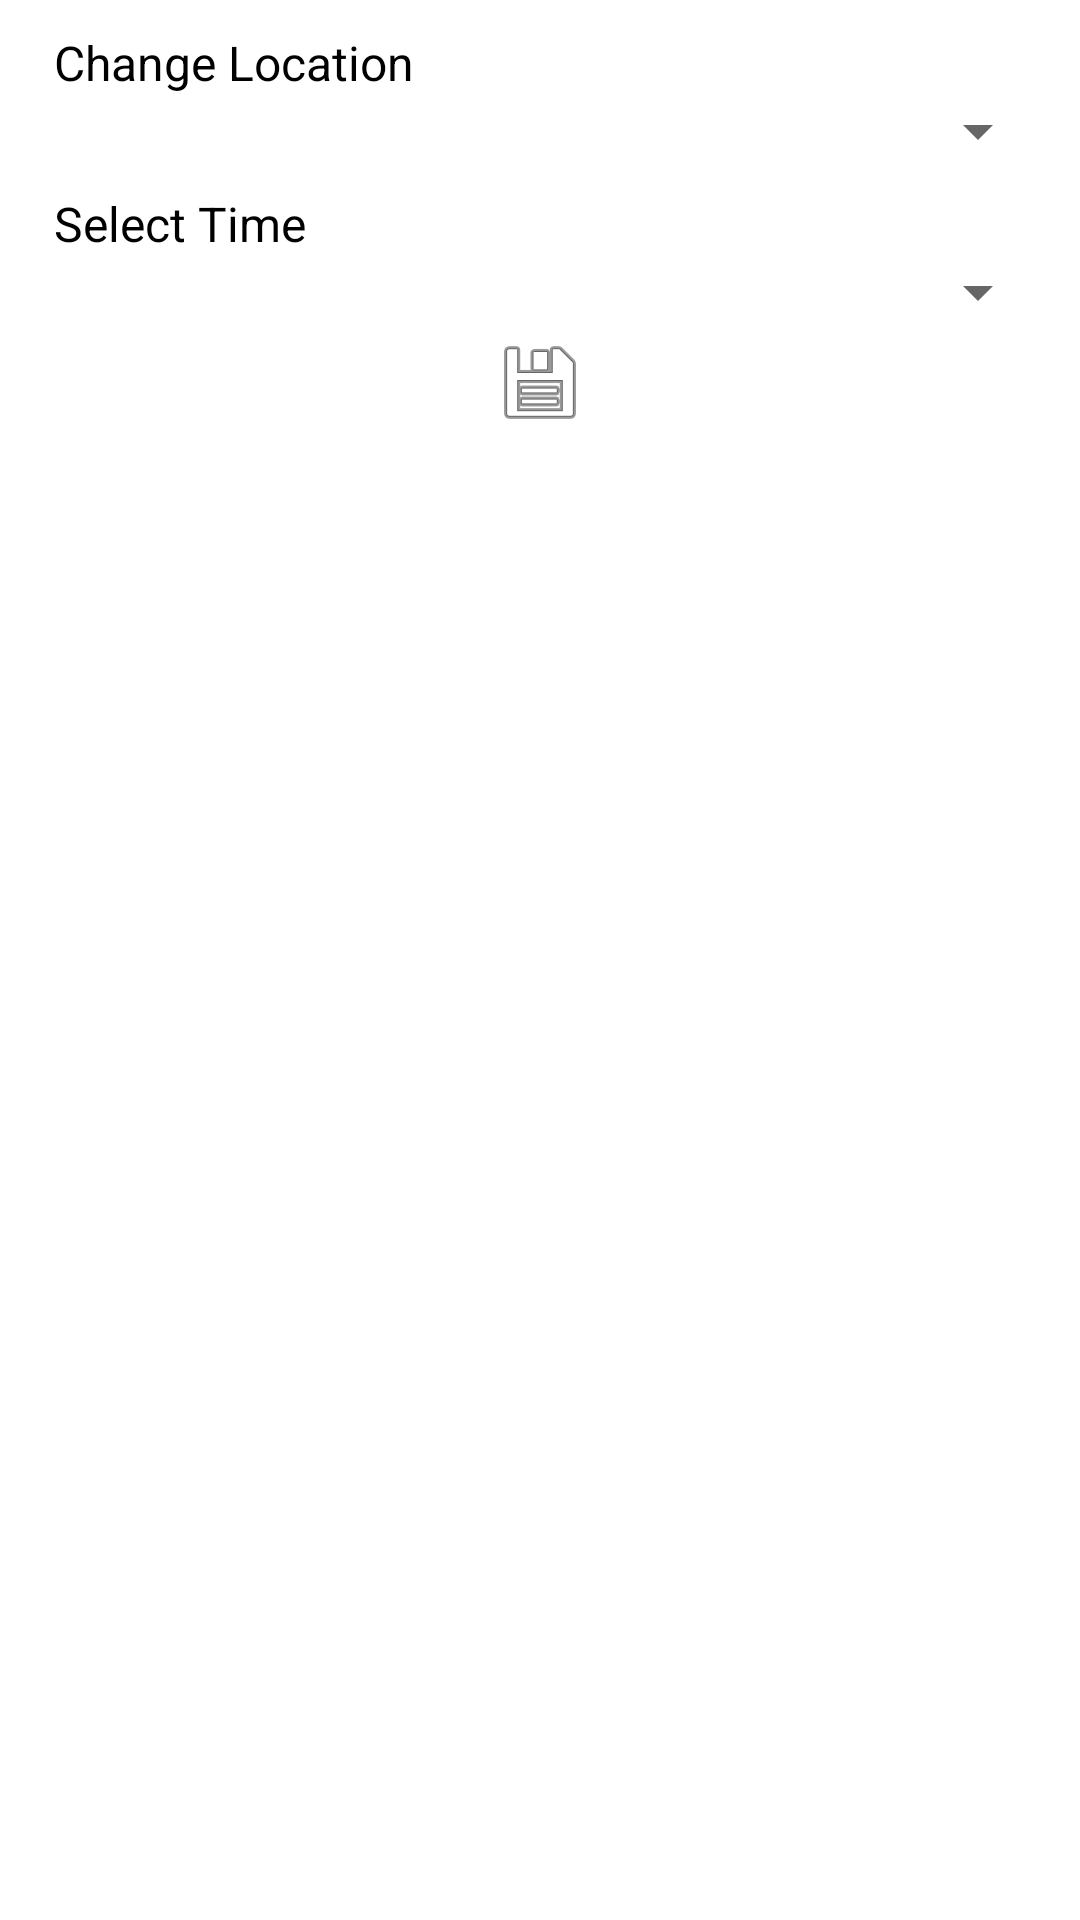

Named icons in this screenshot (1080 × 1920) and their centers, point (x, y):
save: point (540, 382)
